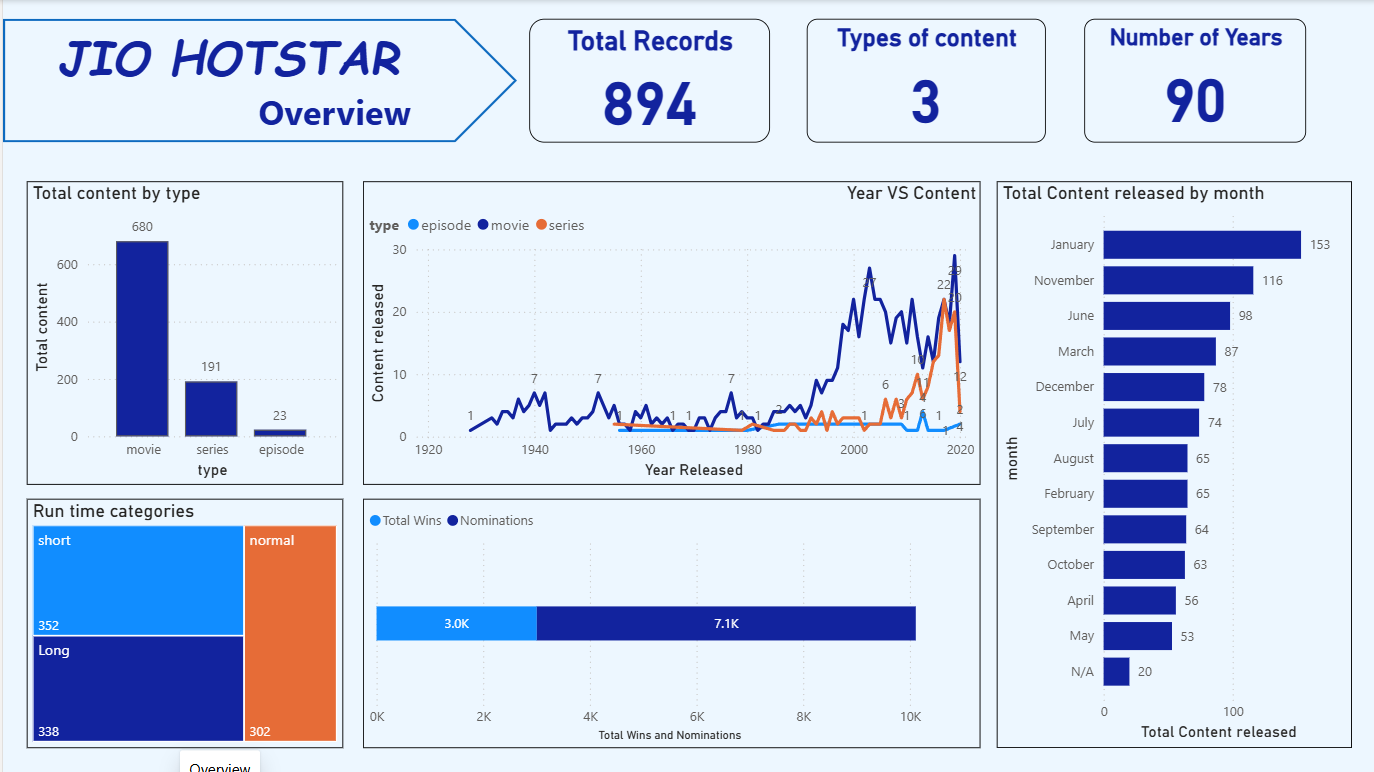

Layout of this report page (visuals, bound fields, positions):
{"tool":"powerbi","page":{"name":"Overview ","canvas":[1280,720],"ordinal":0},"visuals":[{"type":"card","title":"Total Records","fields":{"Values":["CountNonNull(Main_table.type)"]},"box":[489.1,17.1,223.8,114.9],"z":0},{"type":"card","title":"Types of content","fields":{"Values":["Count(Main_table.type)"]},"box":[747.2,17.1,222.6,114.9],"z":1000},{"type":"card","title":"Number of Years","fields":{"Values":["Count(Main_table.released year cleaned)"]},"box":[1006.4,17.1,206.7,114.9],"z":2000},{"type":"lineChart","title":"Year VS Content","fields":{"Category":["Main_table.released year cleaned"],"Y":["CountNonNull(Main_table.released year cleaned)"],"Series":["Main_table.type"]},"box":[335.1,168.8,574.7,282.5],"z":3000},{"type":"clusteredColumnChart","fields":{"Category":["Main_table.type"],"Y":["CountNonNull(Main_table.type)"]},"box":[22,168.8,294.7,282.5],"z":4000},{"type":"barChart","fields":{"Category":["Main_table.released month "],"Y":["CountNonNull(Main_table.released month )"]},"box":[924.5,168.8,330.2,527],"z":5000},{"type":"treemap","title":"Run time categories","fields":{"Group":["Main_table.Run time categories"],"Values":["CountNonNull(Main_table.Run time categories)"]},"box":[22,463.5,294.7,232.3],"z":6000},{"type":"barChart","fields":{"Y":["Sum(Main_table.Wins)","Sum(Main_table.Nominations)"]},"box":[335.1,463.5,574.7,232.3],"z":7000},{"type":"textbox","box":[35.5,17.1,349.7,126],"z":8000},{"type":"shape","box":[0,17.1,478.1,114.9],"z":9000}]}

Visuals, with their boxes in screenshot pixels (x1, y1, x2, y2), scaled from the page's 1280x720 canvas onto the 1374x772 screenshot:
"Total Records" card: BBox(525, 18, 765, 142)
"Types of content" card: BBox(802, 18, 1041, 142)
"Number of Years" card: BBox(1080, 18, 1302, 142)
"Year VS Content" lineChart: BBox(360, 181, 977, 484)
clusteredColumnChart - Main_table.type x CountNonNull(Main_table.type): BBox(24, 181, 340, 484)
barChart - Main_table.released month  x CountNonNull(Main_table.released month ): BBox(992, 181, 1347, 746)
"Run time categories" treemap: BBox(24, 497, 340, 746)
barChart - Sum(Main_table.Wins) x Sum(Main_table.Nominations): BBox(360, 497, 977, 746)
textbox: BBox(38, 18, 413, 153)
shape: BBox(0, 18, 513, 142)
